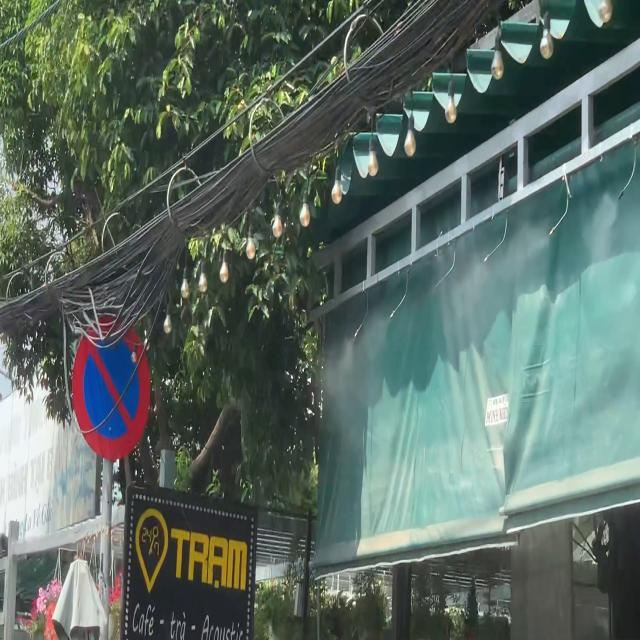Cam do: (72, 307, 151, 462)
